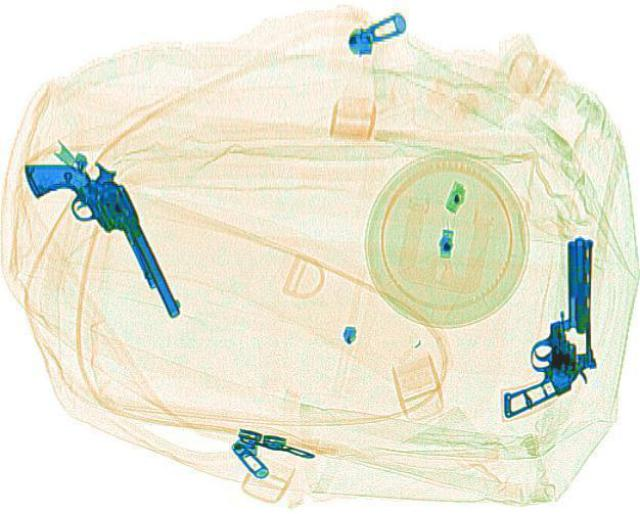Gun: (18, 143, 182, 335), (492, 234, 600, 415)
